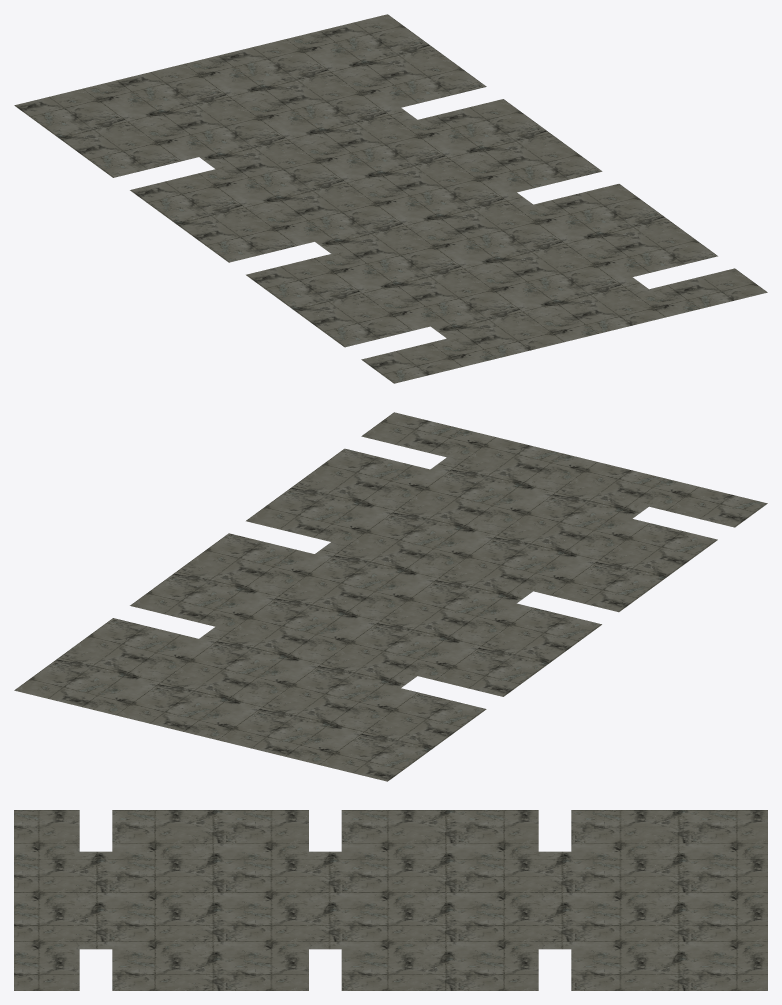
Rendered from Ceiling.gltf.
3 views of the same model, one above another, from view 1: azimuth 30°, elevation 25°; view 2: azimuth 150°, elevation 25°; view 3: azimuth 270°, elevation 25° (orthographic).
Visible parts, largest first — view 1: Ceiling_segment_024, Ceiling_segment_021, Ceiling_segment_015, Ceiling_segment_026, Ceiling_segment_027, Ceiling_segment_030, Ceiling_segment_032, Ceiling_segment_033, Ceiling_segment_018, Ceiling_segment_025, Ceiling_segment_031, Ceiling_segment_010 (+22 smaller); view 2: Ceiling_segment_021, Ceiling_segment_024, Ceiling_segment_030, Ceiling_segment_032, Ceiling_segment_015, Ceiling_segment_026, Ceiling_segment_025, Ceiling_segment_018, Ceiling_segment_033, Ceiling_segment_027, Ceiling_segment_010, Ceiling_segment_031 (+22 smaller); view 3: Ceiling_segment_024, Ceiling_segment_021, Ceiling_segment_015, Ceiling_segment_026, Ceiling_segment_030, Ceiling_segment_032, Ceiling_segment_018, Ceiling_segment_025, Ceiling_segment_031, Ceiling_segment_010, Ceiling_segment_027, Ceiling_segment_033 (+22 smaller).
Part boxes in pixels (x1,y1,x2,y2): Ceiling_segment_024: [216, 144, 365, 205]; Ceiling_segment_021: [317, 120, 467, 180]; Ceiling_segment_015: [150, 96, 299, 156]; Ceiling_segment_026: [381, 265, 531, 326]; Ceiling_segment_027: [432, 204, 582, 265]; Ceiling_segment_030: [251, 71, 400, 132]; Ceiling_segment_032: [482, 241, 632, 301]; Ceiling_segment_033: [201, 35, 351, 95]; Ceiling_segment_018: [100, 60, 249, 120]; Ceiling_segment_025: [332, 229, 481, 289]; Ceiling_segment_031: [266, 181, 415, 241]; Ceiling_segment_010: [367, 156, 516, 216]; Ceiling_segment_021: [216, 590, 365, 651]; Ceiling_segment_024: [317, 615, 466, 675]; Ceiling_segment_030: [149, 639, 299, 699]; Ceiling_segment_032: [381, 469, 530, 530]; Ceiling_segment_015: [250, 663, 400, 724]; Ceiling_segment_026: [482, 494, 631, 554]; Ceiling_segment_025: [432, 530, 582, 591]; Ceiling_segment_018: [201, 700, 350, 760]; Ceiling_segment_033: [100, 675, 249, 735]; Ceiling_segment_027: [332, 506, 481, 566]; Ceiling_segment_010: [266, 554, 415, 614]; Ceiling_segment_031: [367, 579, 516, 639]; Ceiling_segment_024: [439, 851, 538, 900]; Ceiling_segment_021: [439, 900, 538, 949]; Ceiling_segment_015: [571, 851, 669, 900]; Ceiling_segment_026: [112, 851, 210, 900]; Ceiling_segment_030: [571, 900, 669, 949]; Ceiling_segment_032: [112, 900, 210, 949]; Ceiling_segment_018: [669, 851, 767, 900]; Ceiling_segment_025: [210, 851, 308, 900]; Ceiling_segment_031: [341, 851, 439, 900]; Ceiling_segment_010: [341, 900, 439, 949]; Ceiling_segment_027: [210, 900, 308, 949]; Ceiling_segment_033: [669, 900, 767, 949].
Size of the model in its own units: 26.11 by 0 by 46.
1 material, 1 textured.
